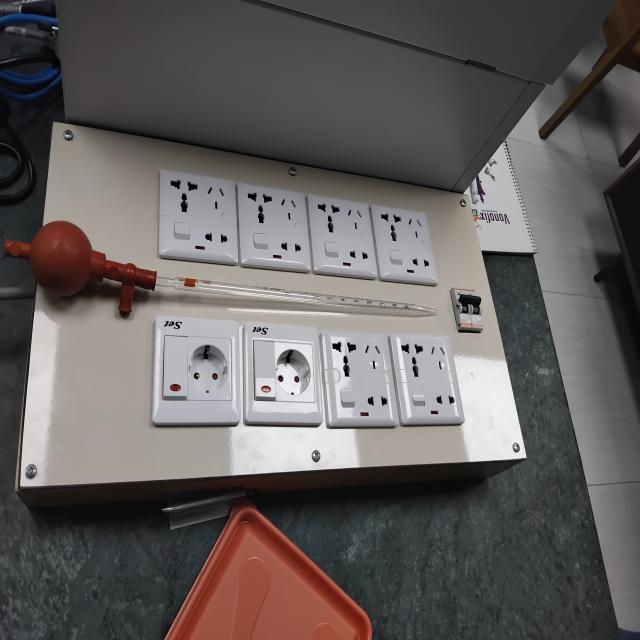Volumetric_Pipet: (0, 161, 460, 392)
